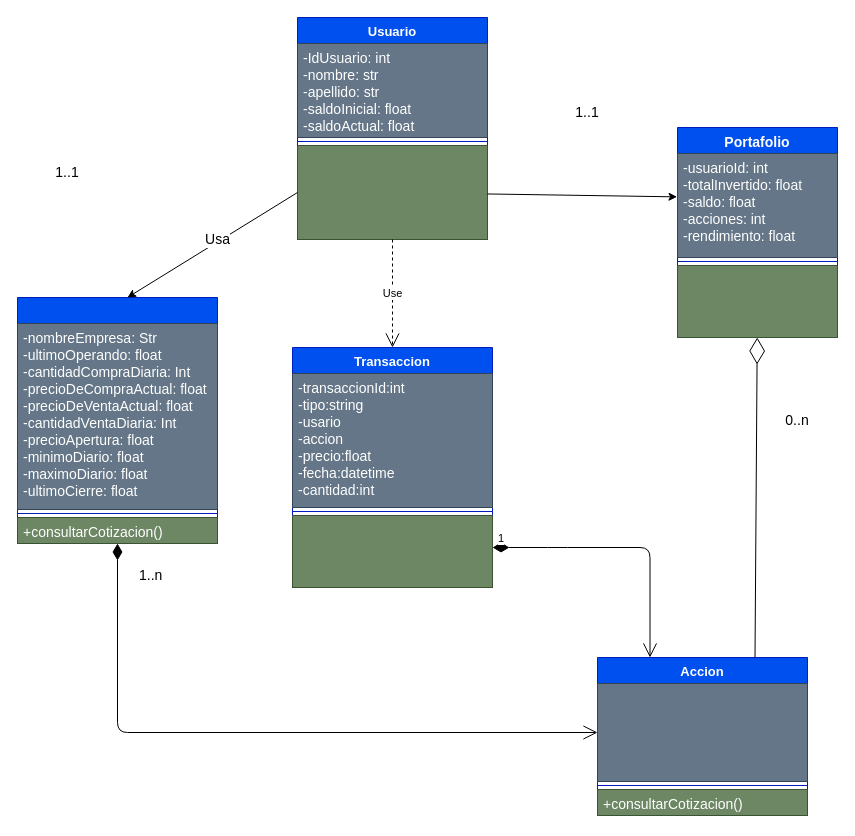
The diagram is 855 pixels wide and 836 high, and some of its shapes have lost their labels. Each missing label, with the box of its shape:
+consultarPortafolio +calcularRendimiento: (676, 264, 838, 338)
+crearUsuario() +consultarPortafolio(): (296, 144, 488, 240)
+realizarTransaccion () +calcularComision (): (292, 514, 492, 588)
-accionId: int -titulo: str -precioVentaActual: float -precioCompraActual: float: (596, 682, 808, 782)
PanelCotizaciones: (16, 296, 218, 544)
